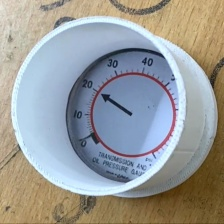gauge: (65, 48, 179, 183)
